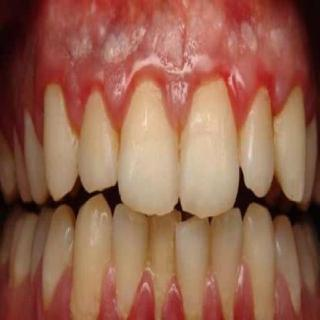Gum Swelling: (26, 55, 313, 145), (42, 269, 69, 318), (97, 267, 121, 320), (128, 271, 153, 320), (274, 276, 301, 320), (235, 266, 255, 319), (160, 282, 184, 320), (204, 276, 224, 319)
maligned: (238, 80, 279, 206), (142, 203, 182, 316), (175, 215, 215, 319)
plaque: (149, 234, 176, 320), (61, 124, 93, 168), (266, 101, 291, 151)
